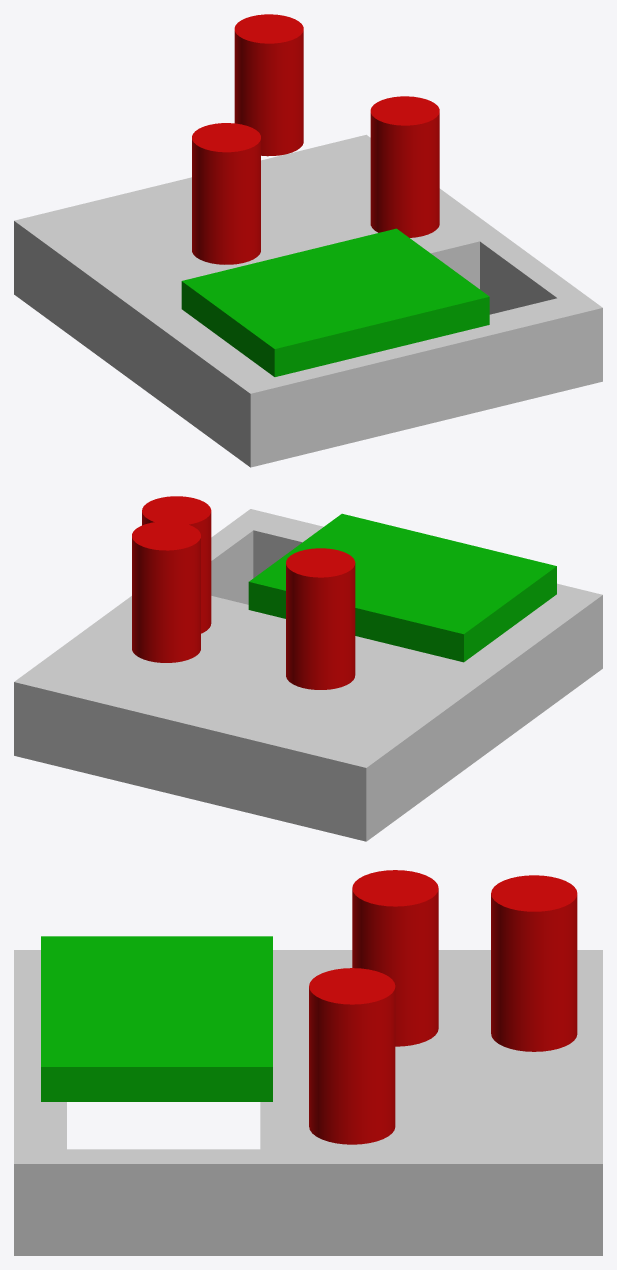
Rendered from RSUVtest.fbx.
3 views of the same model, one above another, from view 1: azimuth 30°, elevation 25°; view 2: azimuth 150°, elevation 25°; view 3: azimuth 270°, elevation 25° (orthographic). The views are drawn at different scales.
Parts seen in each view (by area): view 1: obj4; view 2: obj4; view 3: obj4.
Boxes of the visible parts, bbox=[...] form: obj4: bbox=[14, 14, 602, 467]; obj4: bbox=[14, 496, 602, 841]; obj4: bbox=[14, 870, 602, 1255].
Size of the model in its own units: 26.22 by 16.36 by 30.48.
